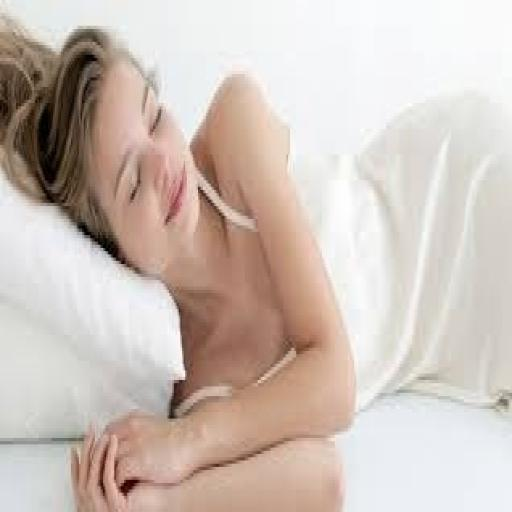sleeping: (0, 9, 510, 508)
